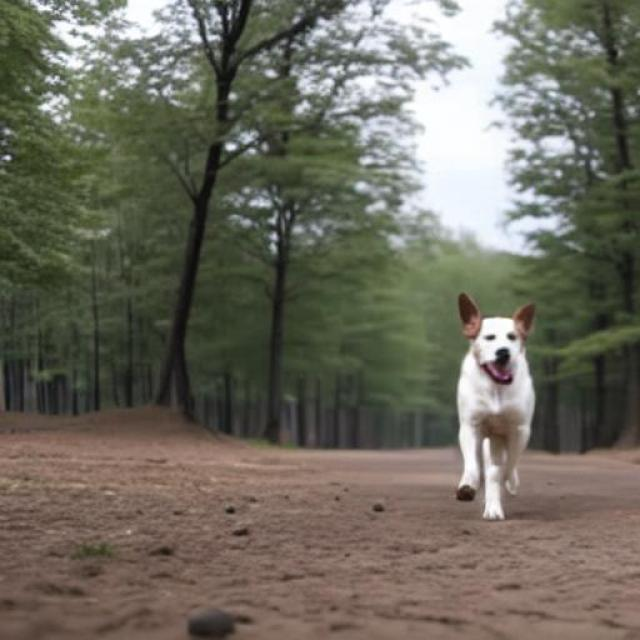Dog: (454, 291, 537, 521)
